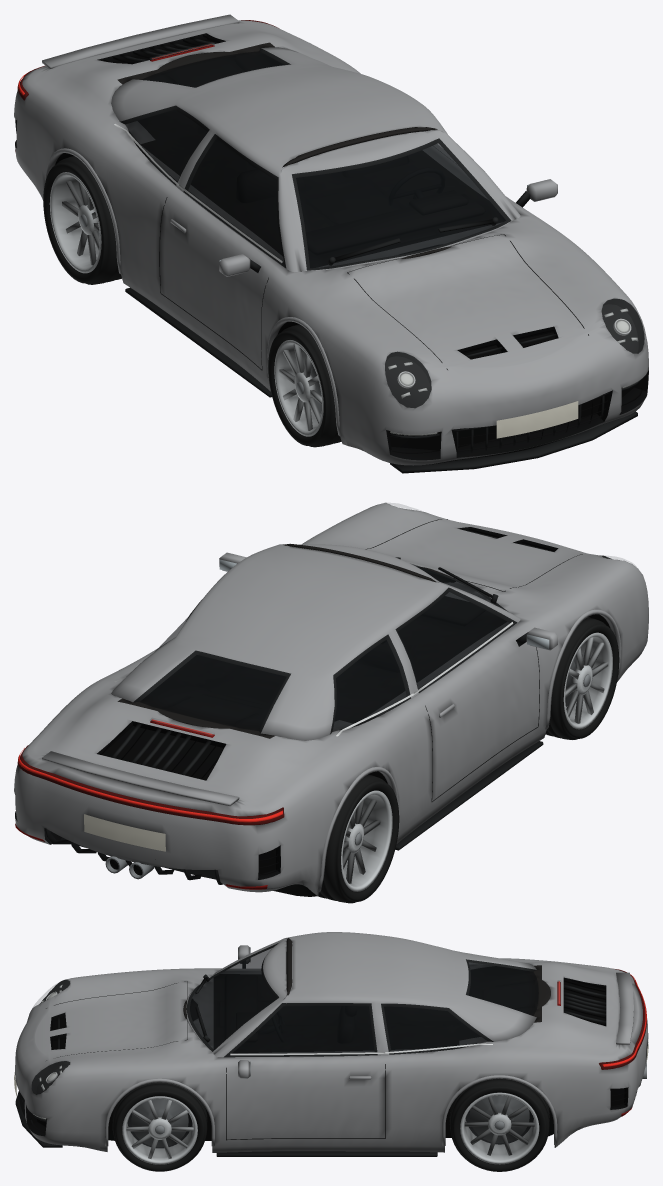
The model's file is porsche-911-gt3-touring.glb.
The picture shows the model from 3 angles, top to bottom: view 1: azimuth 30°, elevation 25°; view 2: azimuth 150°, elevation 25°; view 3: azimuth 270°, elevation 25°; orthographic projection. The views are drawn at different scales.
Parts seen in each view (by area): view 1: Coachwork, Body, Wheel_RR, Wheel_FR, Plate, Headlights; view 2: Coachwork, Body, Wheel_RR, Wheel_FR, Plate, Taillights; view 3: Coachwork, Body, Wheel_RL, Wheel_FL, Taillights.
Part boxes in pixels (<box>): Coachwork: <box>14,20,648,465</box>; Body: <box>15,14,644,473</box>; Wheel_RR: <box>43,156,121,284</box>; Wheel_FR: <box>268,324,341,447</box>; Plate: <box>496,401,578,438</box>; Headlights: <box>388,308,639,435</box>; Coachwork: <box>14,502,648,896</box>; Body: <box>15,503,636,892</box>; Wheel_RR: <box>318,774,399,903</box>; Wheel_FR: <box>545,617,619,739</box>; Plate: <box>84,814,165,851</box>; Taillights: <box>18,719,282,822</box>; Coachwork: <box>15,958,648,1152</box>; Body: <box>15,932,646,1156</box>; Wheel_RL: <box>449,1078,549,1171</box>; Wheel_FL: <box>112,1082,207,1171</box>; Taillights: <box>557,974,646,1066</box>.
Size of the model in its own units: 2.13 by 1.28 by 4.59.
